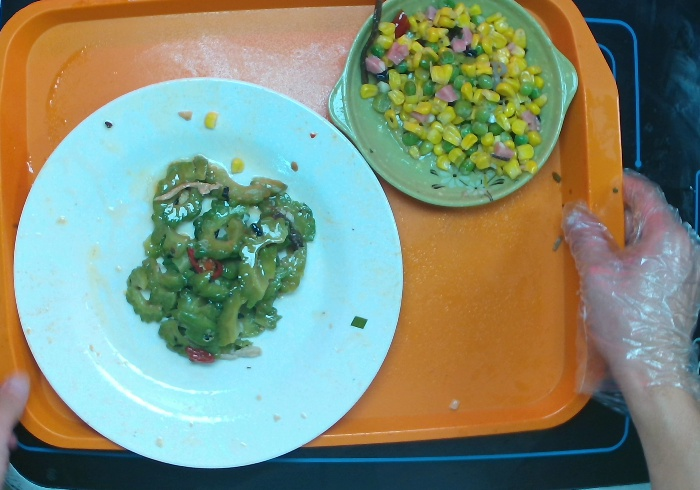NLDX-Da_Yuan_Pan: (10, 74, 405, 471)
NLDX-Lv_Hua_Shuang_Er_Die: (326, 1, 581, 208)
